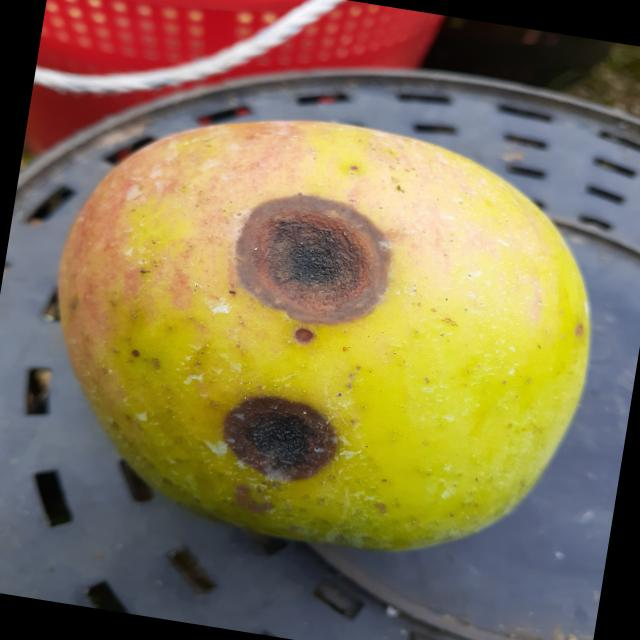rotten: (5, 71, 640, 608)
